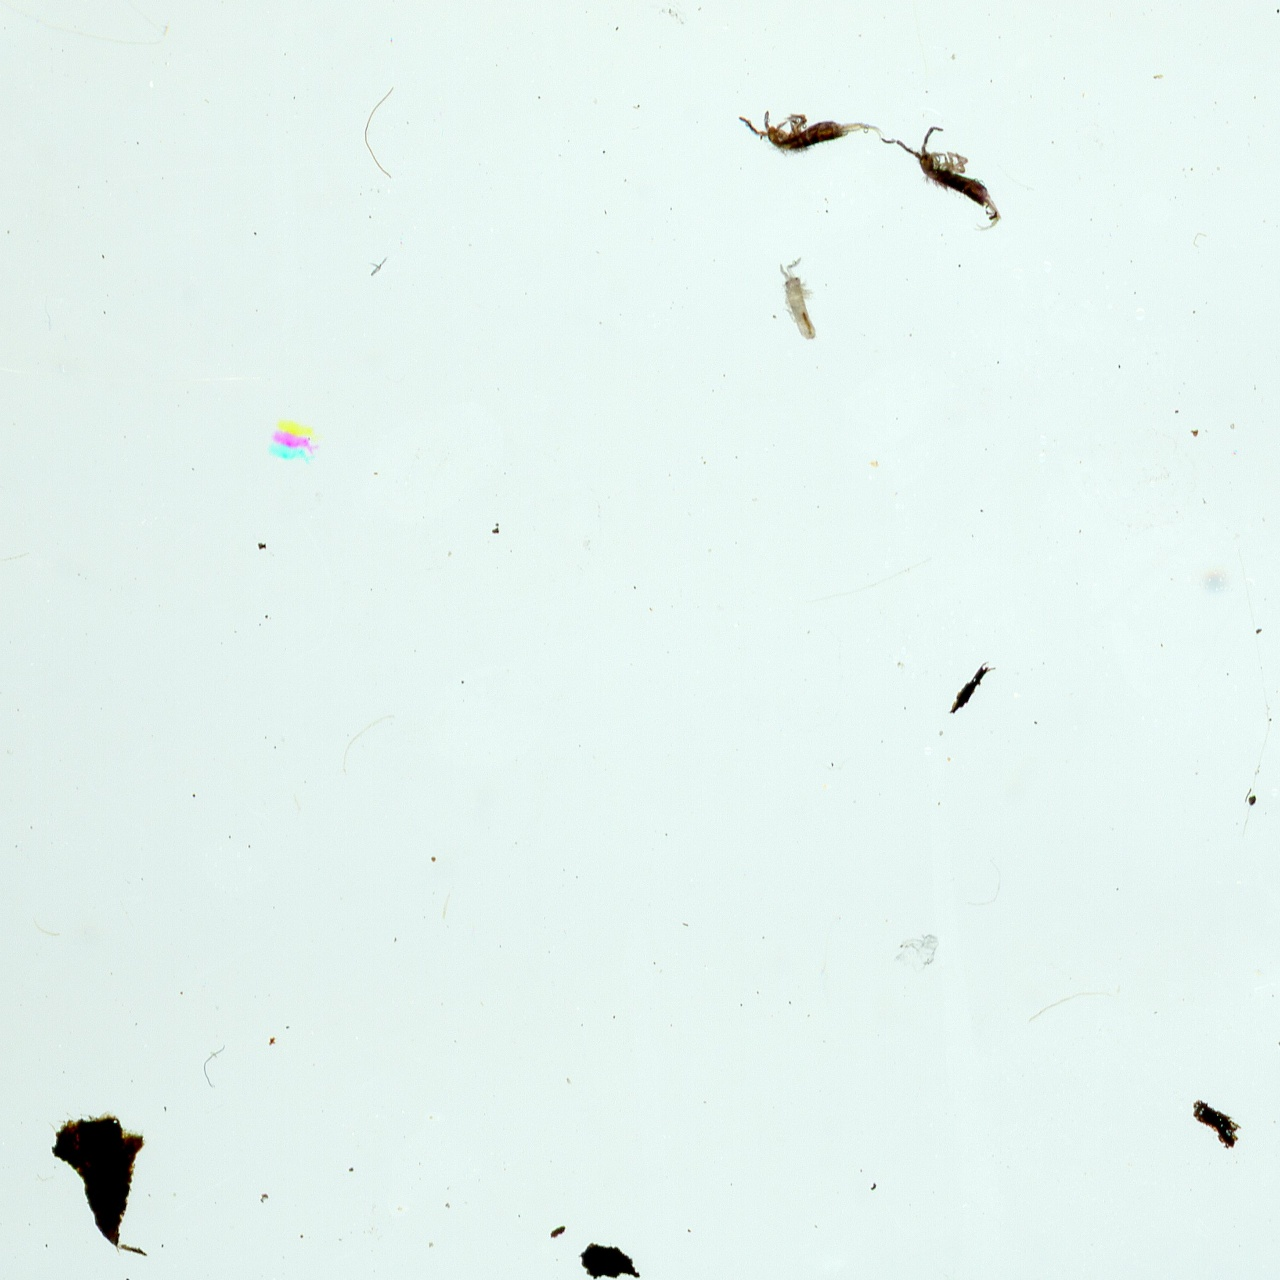arthropod: (876, 124, 1005, 238), (731, 107, 886, 161), (775, 254, 824, 352), (263, 416, 328, 469)
